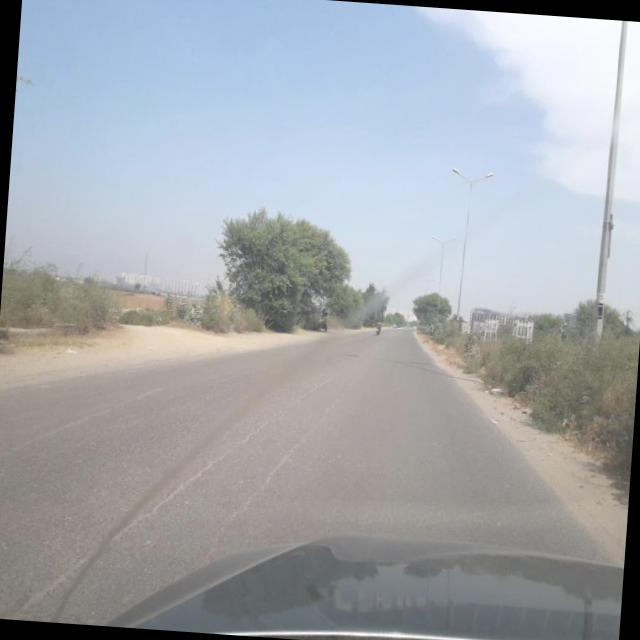crack: (20, 348, 328, 630), (214, 402, 334, 556), (2, 369, 170, 466)
